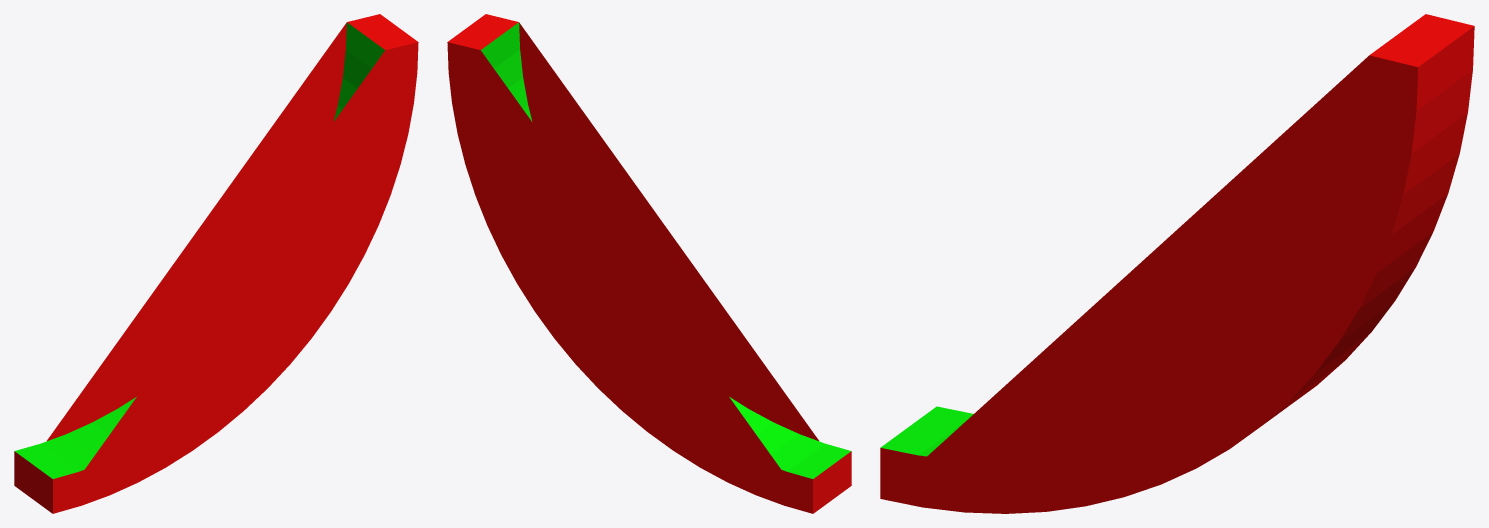
File: SegmentUp2.fbx
3 views of the same model, side by side, from view 1: azimuth 30°, elevation 25°; view 2: azimuth 150°, elevation 25°; view 3: azimuth 330°, elevation 25° (orthographic). The views are drawn at different scales.
Parts seen in each view (by area): view 1: Up_2; view 2: Up_2; view 3: Up_2.
Part boxes in pixels (box(x1,y1,x2,y2)): Up_2: box(14, 14, 418, 513); Up_2: box(447, 14, 851, 513); Up_2: box(880, 14, 1474, 513).
Size of the model in its own units: 1100 by 1100 by 200.
